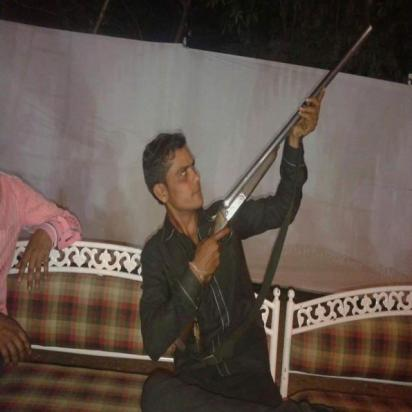Gun: (159, 22, 374, 358)
